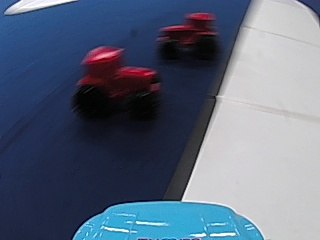tractor: (70, 40, 161, 119), (157, 10, 218, 61)
